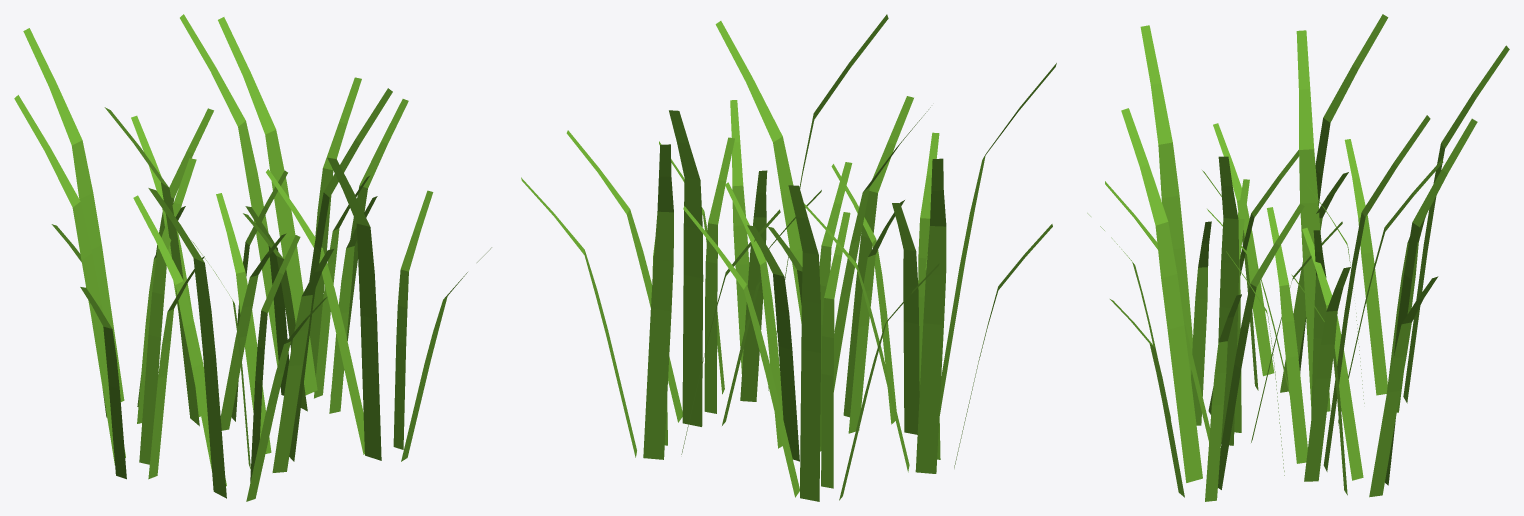
File: kusa.fbx
3 views of the same model, side by side, from view 1: azimuth 30°, elevation 25°; view 2: azimuth 150°, elevation 25°; view 3: azimuth 270°, elevation 25° (orthographic). The views are drawn at different scales.
Visible parts, largest first — view 1: Plane.027, Plane.007, Plane.022, Plane.017, Plane.034, Plane.032, Plane.039, Plane.012, Plane.028, Plane.024, Plane.029, Plane.014 (+18 smaller); view 2: Plane.012, Plane.032, Plane.017, Plane.007, Plane.024, Plane.018, Plane.008, Plane.004, Plane.037, Plane.039, Plane.029, Plane.025 (+14 smaller); view 3: Plane.027, Plane.002, Plane.022, Plane.037, Plane.009, Plane.005, Plane.015, Plane.014, Plane.028, Plane.029, Plane.012, Plane.010 (+15 smaller).
Boxes of the visible parts, x1,y1,x2,y2 form: Plane.027: [327, 157, 381, 460]; Plane.007: [218, 17, 317, 395]; Plane.022: [148, 188, 226, 498]; Plane.017: [23, 28, 124, 401]; Plane.034: [139, 158, 196, 464]; Plane.032: [14, 95, 125, 464]; Plane.039: [272, 249, 333, 472]; Plane.012: [180, 14, 278, 366]; Plane.028: [393, 190, 433, 449]; Plane.024: [133, 195, 226, 486]; Plane.029: [266, 169, 364, 454]; Plane.014: [309, 77, 361, 376]; Plane.012: [643, 144, 673, 459]; Plane.032: [915, 158, 946, 473]; Plane.017: [788, 185, 820, 501]; Plane.007: [669, 110, 703, 426]; Plane.024: [892, 203, 919, 434]; Plane.018: [821, 212, 850, 488]; Plane.008: [704, 137, 734, 413]; Plane.004: [747, 225, 799, 461]; Plane.037: [715, 21, 802, 323]; Plane.039: [843, 96, 913, 417]; Plane.029: [740, 170, 767, 401]; Plane.025: [730, 100, 749, 373]; Plane.027: [1121, 108, 1202, 482]; Plane.002: [1296, 30, 1330, 411]; Plane.022: [1140, 25, 1192, 377]; Plane.037: [1218, 156, 1239, 445]; Plane.009: [1304, 267, 1350, 481]; Plane.005: [1267, 207, 1307, 463]; Plane.015: [1344, 139, 1387, 395]; Plane.014: [1369, 276, 1438, 497]; Plane.028: [1205, 294, 1241, 501]; Plane.029: [1218, 203, 1304, 489]; Plane.012: [1385, 118, 1477, 485]; Plane.010: [1302, 228, 1363, 480].
Size of the model in its own units: 345 by 306 by 332.
